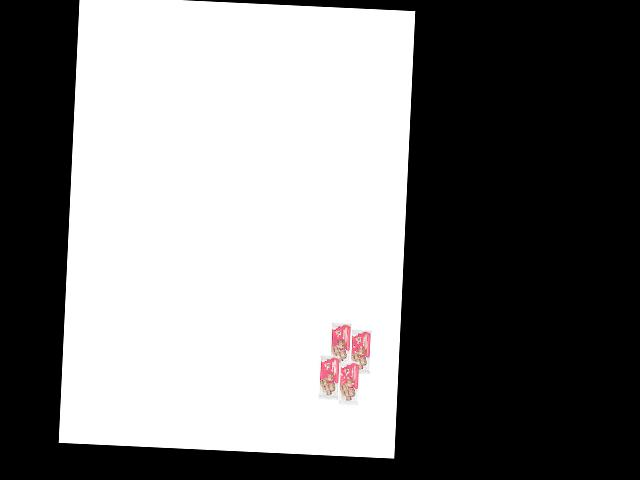chocolate: (346, 325, 373, 376)
